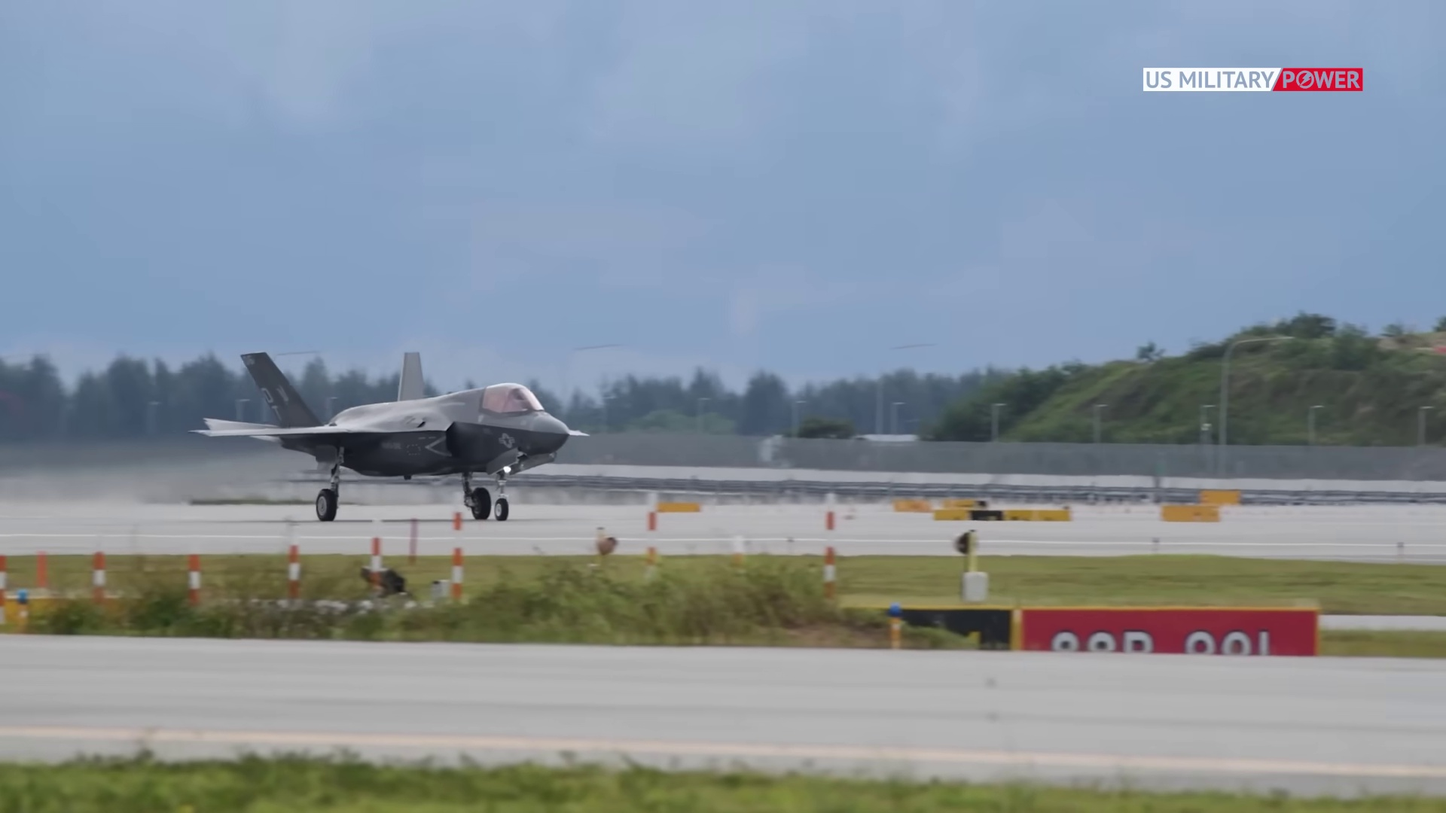F35: (183, 339, 596, 533)
